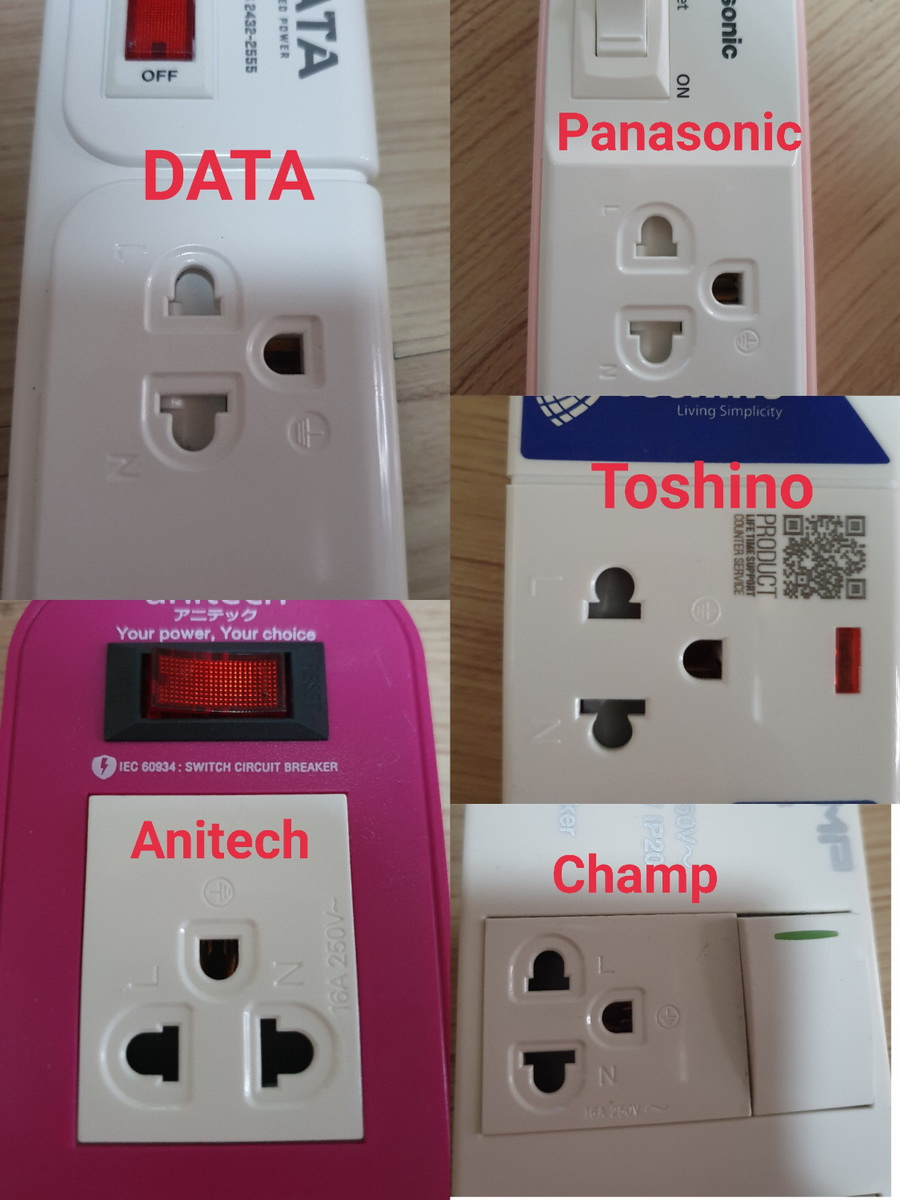Three_eye_plug: (2, 601, 455, 1200), (1, 1, 417, 600), (447, 803, 900, 1200), (484, 391, 900, 804), (497, 1, 850, 401)
